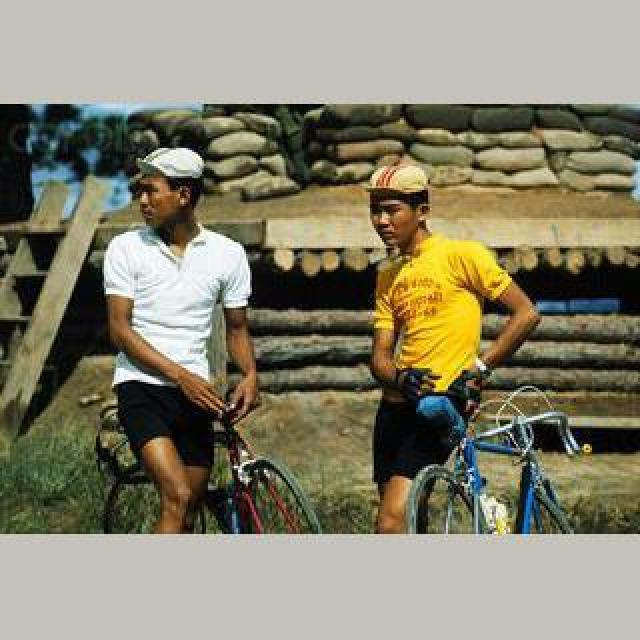MC-Bike: (364, 168, 540, 526), (102, 146, 260, 532)
Person: (97, 397, 323, 531), (405, 388, 587, 532)
